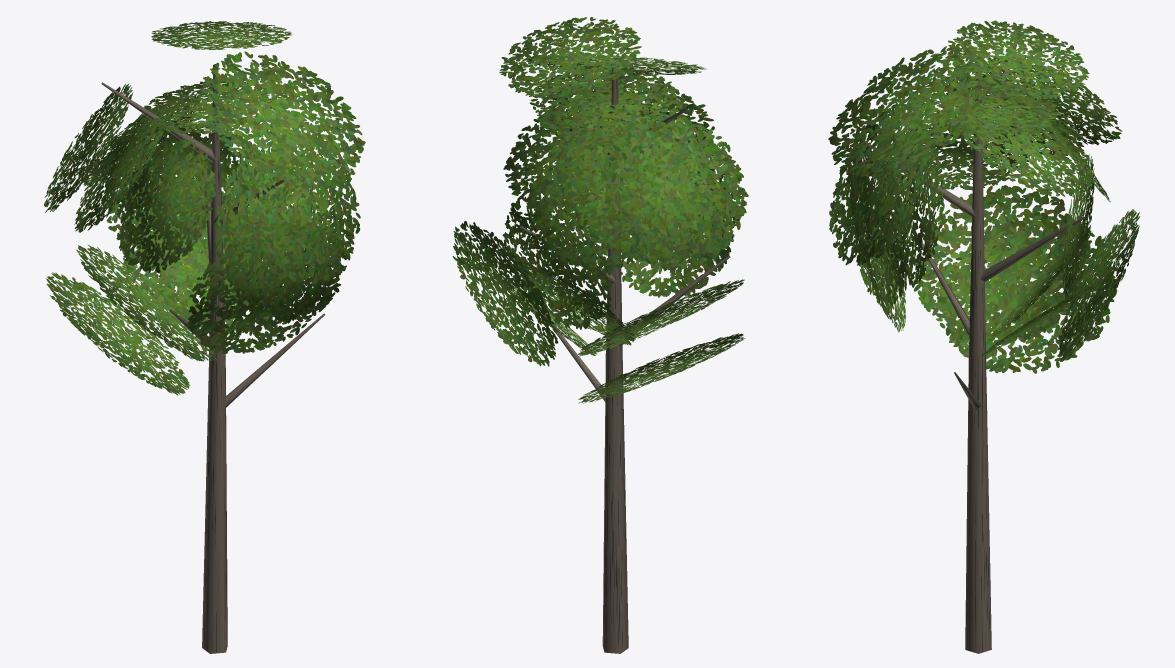
Rendered from Hickory_LOD1.fbx.
3 views of the same model, side by side, from view 1: azimuth 30°, elevation 25°; view 2: azimuth 150°, elevation 25°; view 3: azimuth 270°, elevation 25° (orthographic).
Parts seen in each view (by area): view 1: Hickory_LOD1; view 2: Hickory_LOD1; view 3: Hickory_LOD1.
Boxes of the visible parts, left/top/right/bottom form: Hickory_LOD1: left=44, top=21, right=365, bottom=653; Hickory_LOD1: left=452, top=17, right=748, bottom=653; Hickory_LOD1: left=828, top=20, right=1139, bottom=653.
Size of the model in its own units: 9.88 by 18.65 by 9.63.
1 material, 1 textured.
